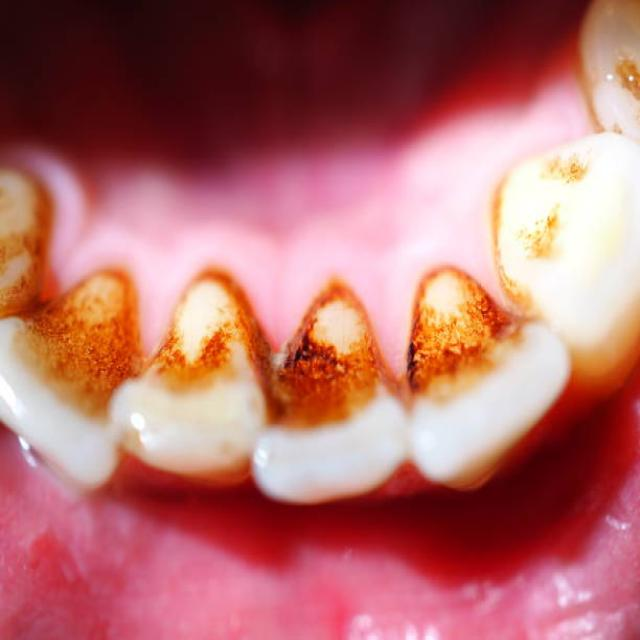calculus: (278, 279, 383, 429), (407, 271, 516, 391), (485, 160, 585, 288), (44, 280, 133, 394), (166, 292, 253, 382), (2, 184, 54, 312)
